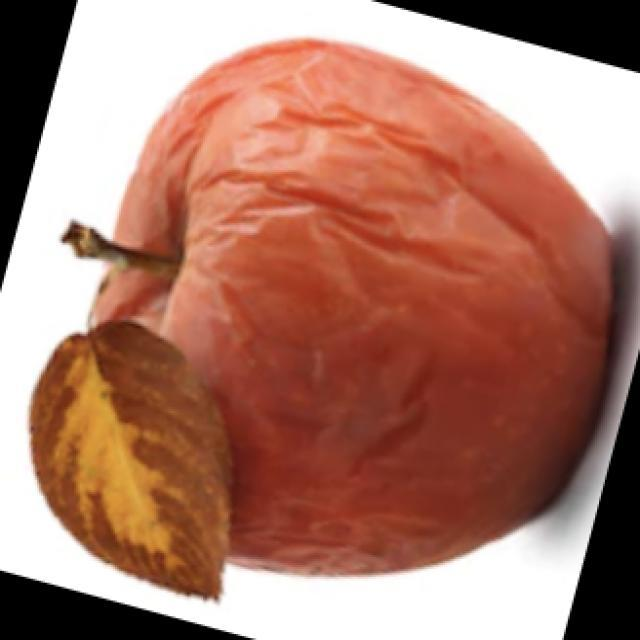Rotten: (107, 55, 623, 557)
